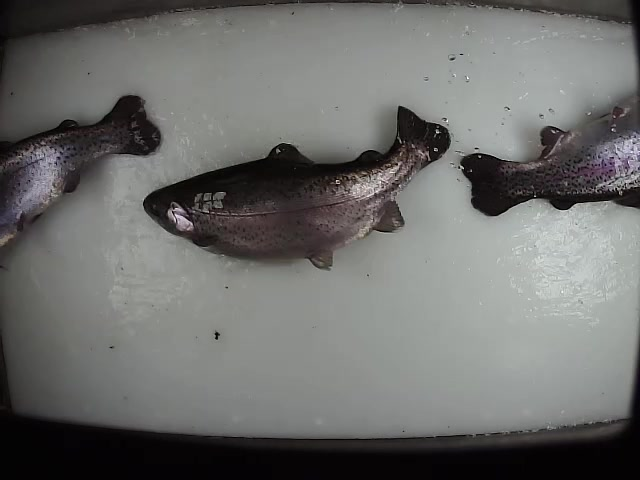fish: (140, 105, 452, 272)
